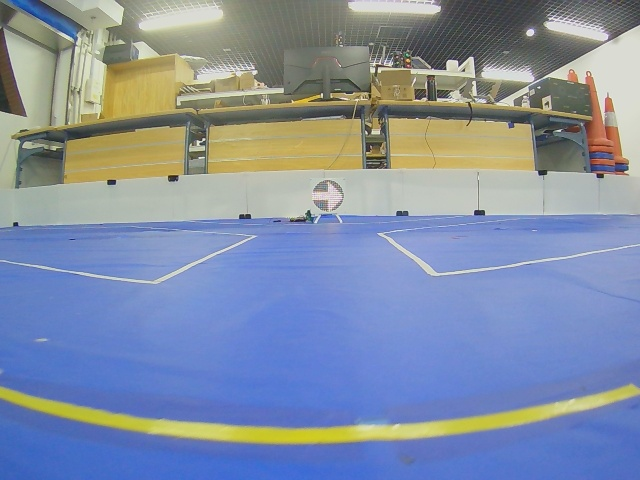right_yellow: (312, 180, 345, 212)
